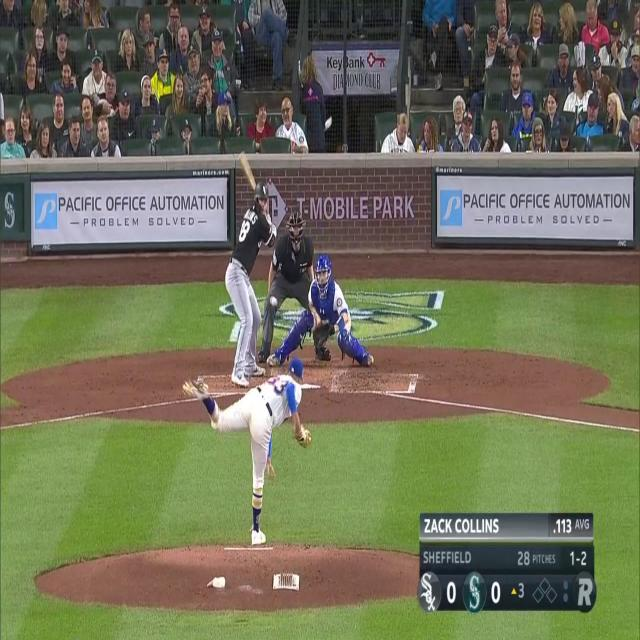baseball: (269, 294, 278, 308)
